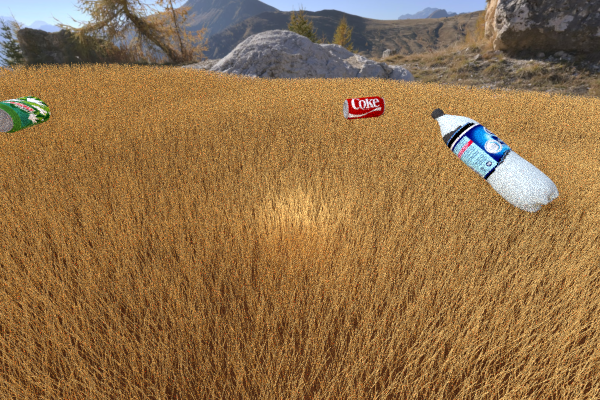bottle: (431, 108, 558, 212)
can: (0, 96, 50, 132), (343, 96, 385, 119)
